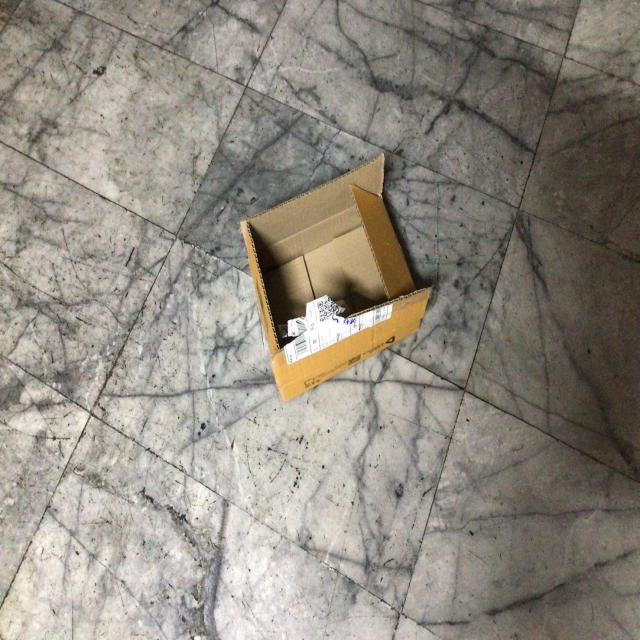cardboard: (242, 158, 431, 409)
